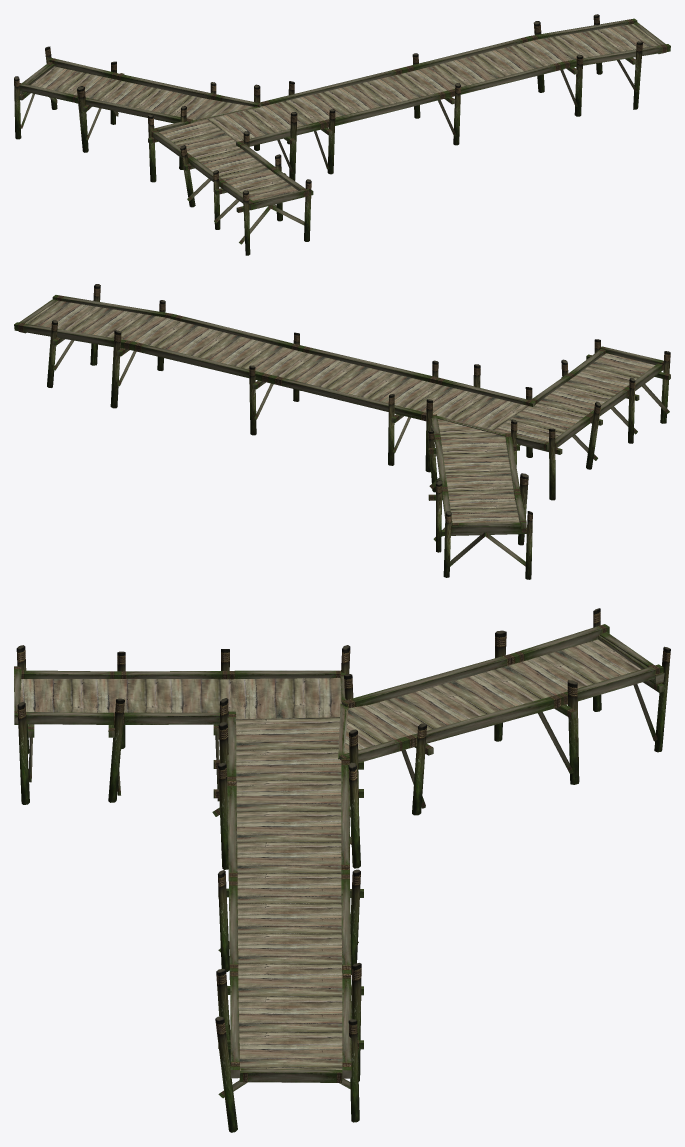
The model's file is pier_port_royal_1deck.fbx.
The picture shows the model from 3 angles, top to bottom: view 1: azimuth 30°, elevation 25°; view 2: azimuth 150°, elevation 25°; view 3: azimuth 270°, elevation 25°; orthographic projection. The views are drawn at different scales.
Parts seen in each view (by area): view 1: deck239.001, deck239, deck242.001, deck240.001, polySurface193, polySurface192, polySurface358, polySurface185, polySurface186, polySurface270, polySurface204, deck242 (+16 smaller); view 2: deck239.001, deck242.001, deck240.001, deck239, polySurface358, polySurface186, deck240, polySurface269, polySurface193, deck242, polySurface192, polySurface270 (+8 smaller); view 3: deck239.001, deck239, deck242.001, deck240.001, polySurface204, polySurface185, deck242, polySurface197, polySurface272, deck240, polySurface265, polySurface271 (+21 smaller).
Boxes of the visible parts, box(x1,y1,x2,y2) form: deck239.001: box(207, 24, 659, 141); deck239: box(208, 24, 659, 140); deck242.001: box(31, 66, 253, 120); deck240.001: box(159, 119, 297, 200); polySurface193: box(322, 91, 449, 128); polySurface192: box(447, 62, 564, 97); polySurface358: box(259, 67, 407, 106); polySurface185: box(75, 97, 192, 123); polySurface186: box(405, 36, 532, 72); polySurface270: box(562, 44, 670, 68); polySurface204: box(115, 73, 220, 100); deck242: box(32, 67, 202, 118); deck239.001: box(25, 300, 528, 429); deck242.001: box(437, 419, 519, 522); deck240.001: box(494, 353, 654, 442); deck239: box(28, 304, 526, 429); polySurface358: box(269, 375, 426, 421); polySurface186: box(130, 341, 271, 382); deck240: box(495, 354, 652, 429); polySurface269: box(14, 322, 132, 349); polySurface193: box(298, 345, 439, 383); deck242: box(448, 436, 516, 522); polySurface192: box(171, 314, 300, 350); polySurface270: box(52, 295, 173, 318); deck239.001: box(236, 717, 342, 1070); deck239: box(236, 718, 342, 1069); deck242.001: box(344, 639, 640, 753); deck240.001: box(20, 678, 341, 719); polySurface204: box(400, 694, 562, 749); polySurface185: box(341, 653, 519, 708); deck242: box(348, 642, 639, 733); polySurface197: box(123, 712, 219, 724); polySurface272: box(558, 664, 663, 704); deck240: box(20, 679, 338, 718); polySurface265: box(26, 712, 114, 724); polySurface271: box(515, 624, 609, 662).
Size of the model in its own units: 27780 by 4003 by 17811.
Materials: 2 (2 with a texture image).
